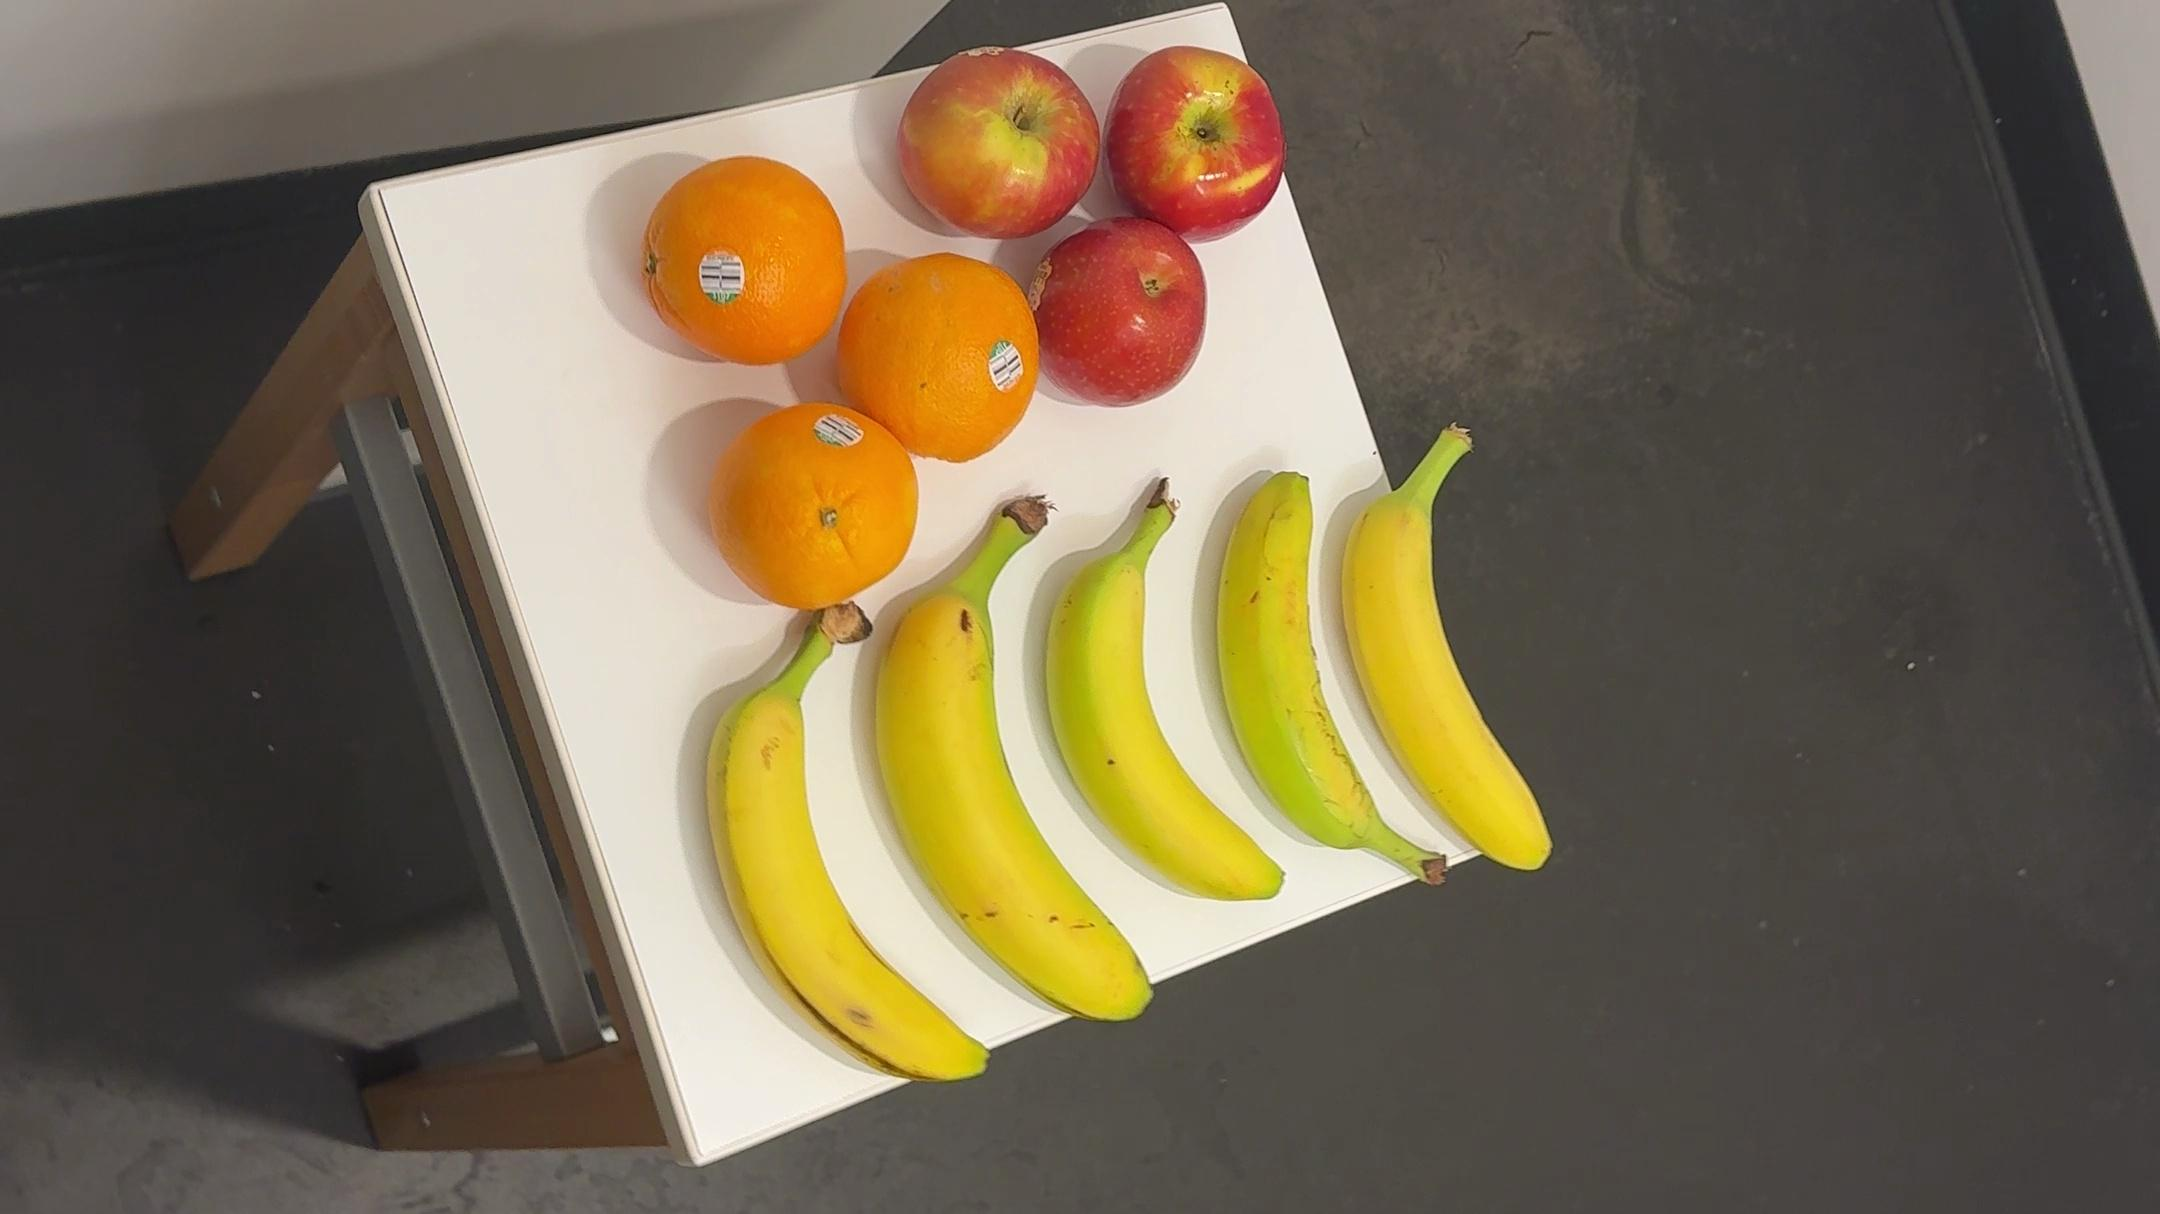apple: (900, 42, 1107, 243), (1096, 50, 1300, 237), (1030, 229, 1219, 411)
banana: (866, 493, 1179, 1045), (687, 600, 1001, 1100), (1205, 463, 1467, 899), (1049, 469, 1295, 932), (1331, 421, 1564, 879)
orange: (847, 251, 1047, 472), (645, 157, 844, 371), (711, 401, 912, 608)
